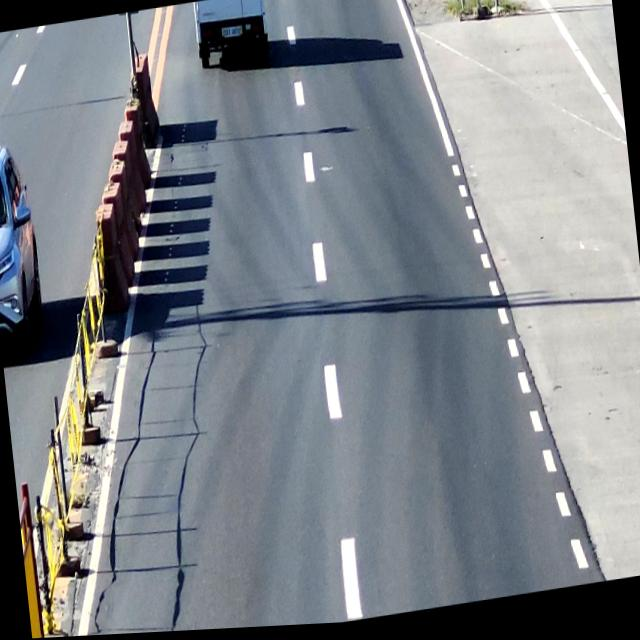Jeep: (186, 0, 272, 80)
License-Plate: (217, 21, 248, 48)
